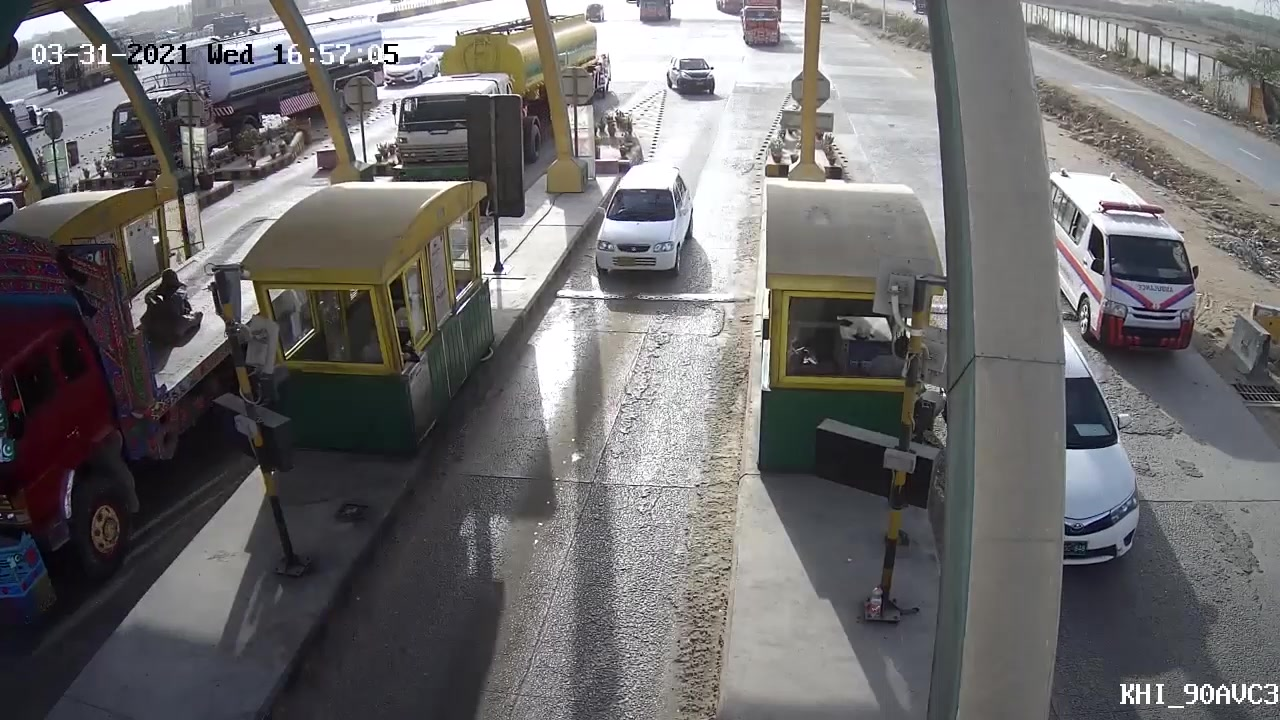F1: (585, 160, 695, 290)
